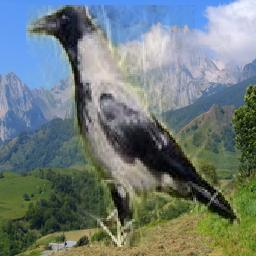Crow: (27, 5, 242, 247)
